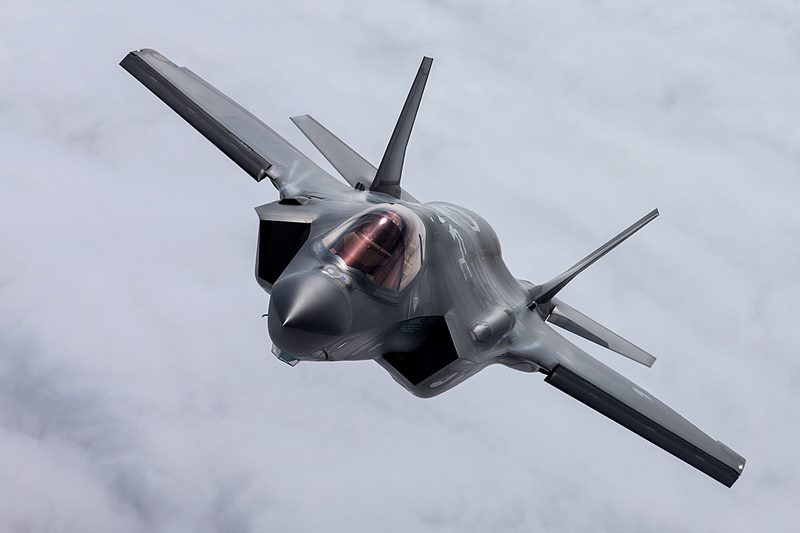F35: (114, 45, 750, 491)
